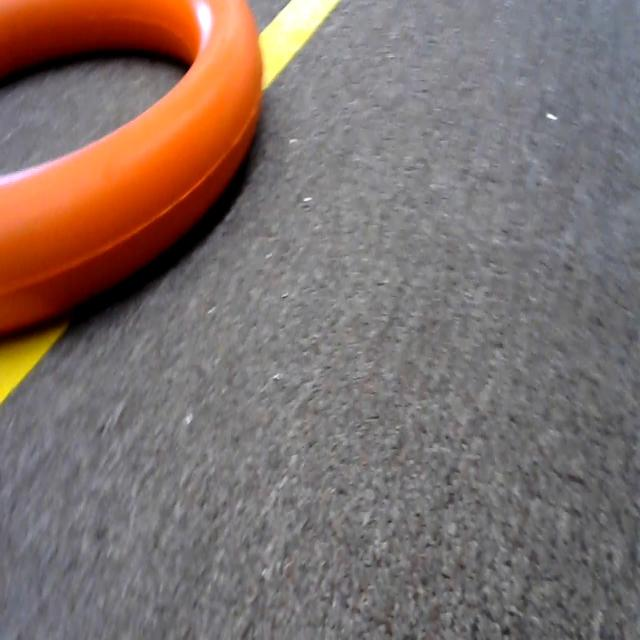note: (0, 0, 277, 342)
